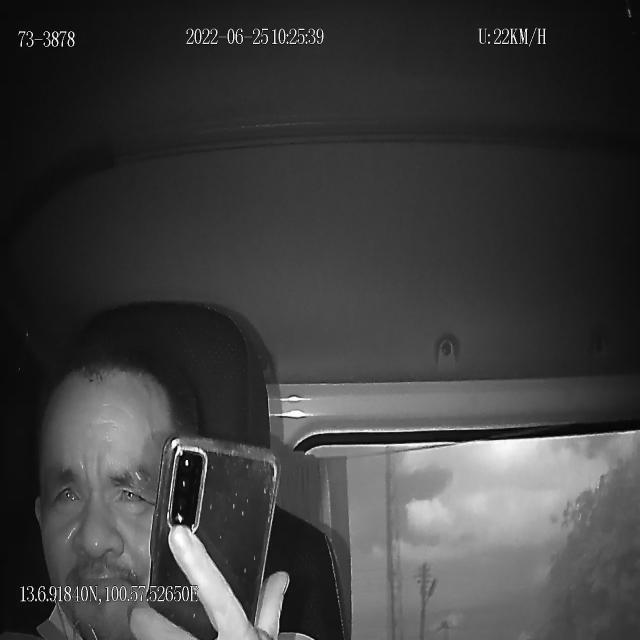phone: (146, 431, 278, 640)
